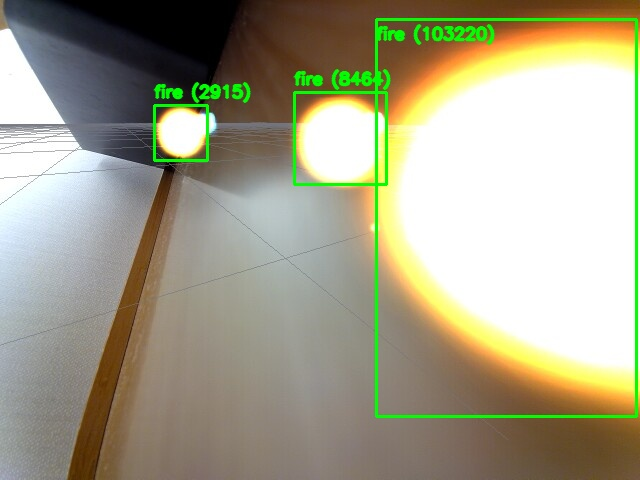fire: (376, 19, 636, 416), (294, 92, 386, 184), (154, 105, 207, 160)
